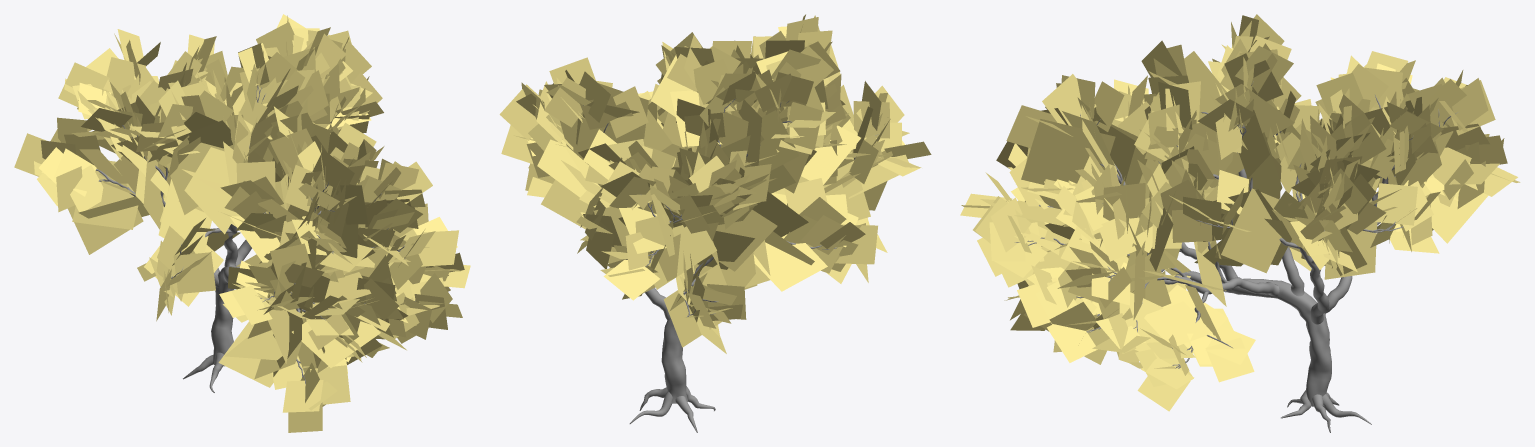
Rendered from deadtree_02_LOD0.FBX.
3 views of the same model, side by side, from view 1: azimuth 30°, elevation 25°; view 2: azimuth 150°, elevation 25°; view 3: azimuth 270°, elevation 25° (orthographic). The views are drawn at different scales.
Visible parts, largest first — view 1: deadtree_02_LOD0; view 2: deadtree_02_LOD0; view 3: deadtree_02_LOD0.
Part boxes in pixels (x1,y1,x2,y2): deadtree_02_LOD0: [14, 14, 470, 432]; deadtree_02_LOD0: [499, 14, 931, 432]; deadtree_02_LOD0: [960, 14, 1520, 432].
Bounding box in the file's own units: 18.9 × 21.05 × 28.06.
